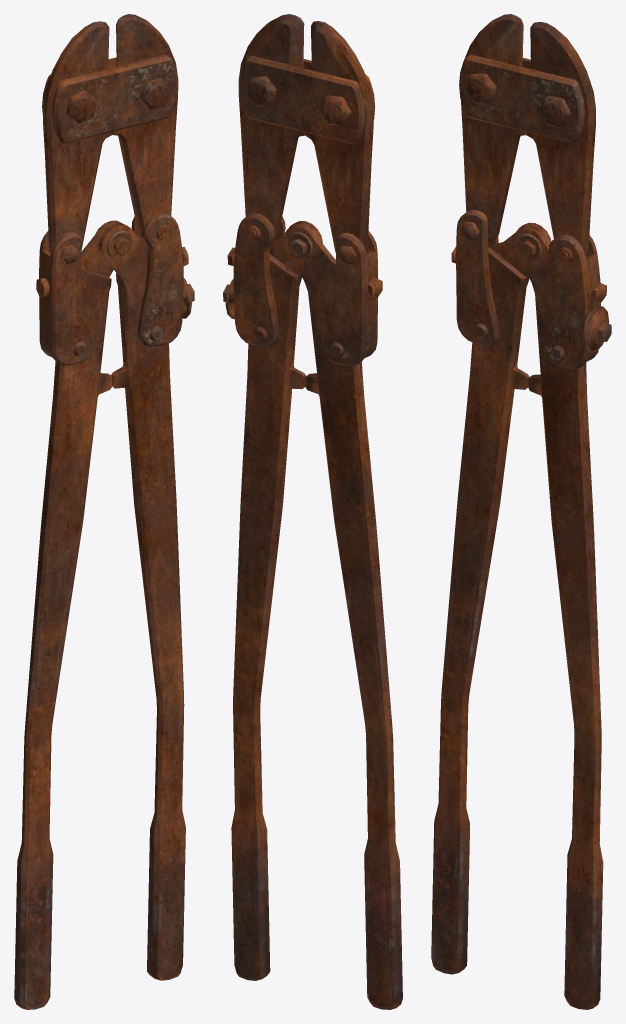
The model's file is bolt_cutters_01.glb.
3 views of the same model, side by side, from view 1: azimuth 30°, elevation 25°; view 2: azimuth 150°, elevation 25°; view 3: azimuth 330°, elevation 25° (orthographic).
Visible parts, largest first — view 1: bolt_cutters_01; view 2: bolt_cutters_01; view 3: bolt_cutters_01.
Part boxes in pixels (x1,y1,x2,y2): bolt_cutters_01: [14, 14, 194, 1009]; bolt_cutters_01: [223, 14, 402, 1009]; bolt_cutters_01: [431, 14, 611, 1009].
Size of what is drawn, in the model's own units: 0.151 by 0.8026 by 0.036.
Materials: 1 (1 with a texture image).
